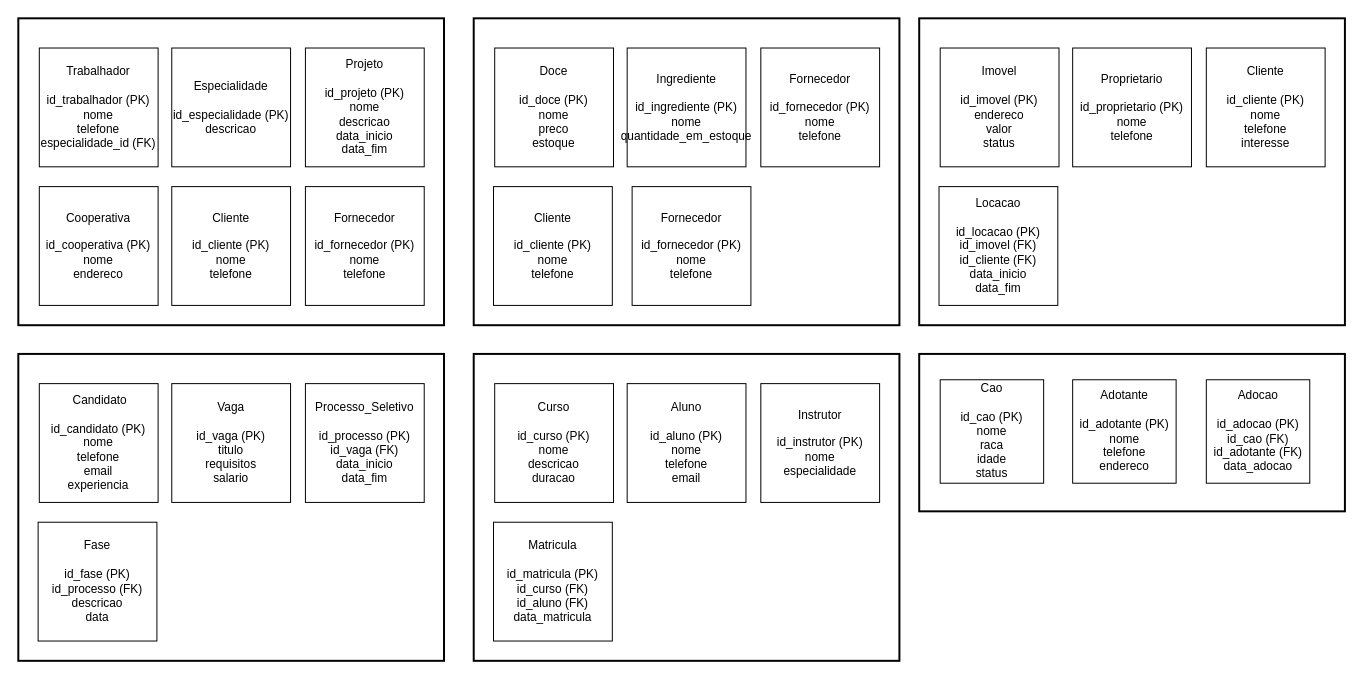
Image size: 1362x678. Some labels were removed from this diagram. The box of each missing label's shape, as (x1, y1, x2, y2) in pixels:
Abrigo para Cães: (918, 352, 1345, 512)
Imobiliária: (918, 17, 1345, 326)
Loja de Doces: (472, 17, 900, 326)
Rede de Trabalhadores - Construção Civil: (17, 17, 445, 326)
Sistema de Cursos: (472, 352, 900, 661)
Sistema de Processo Seletivo: (17, 352, 445, 661)
